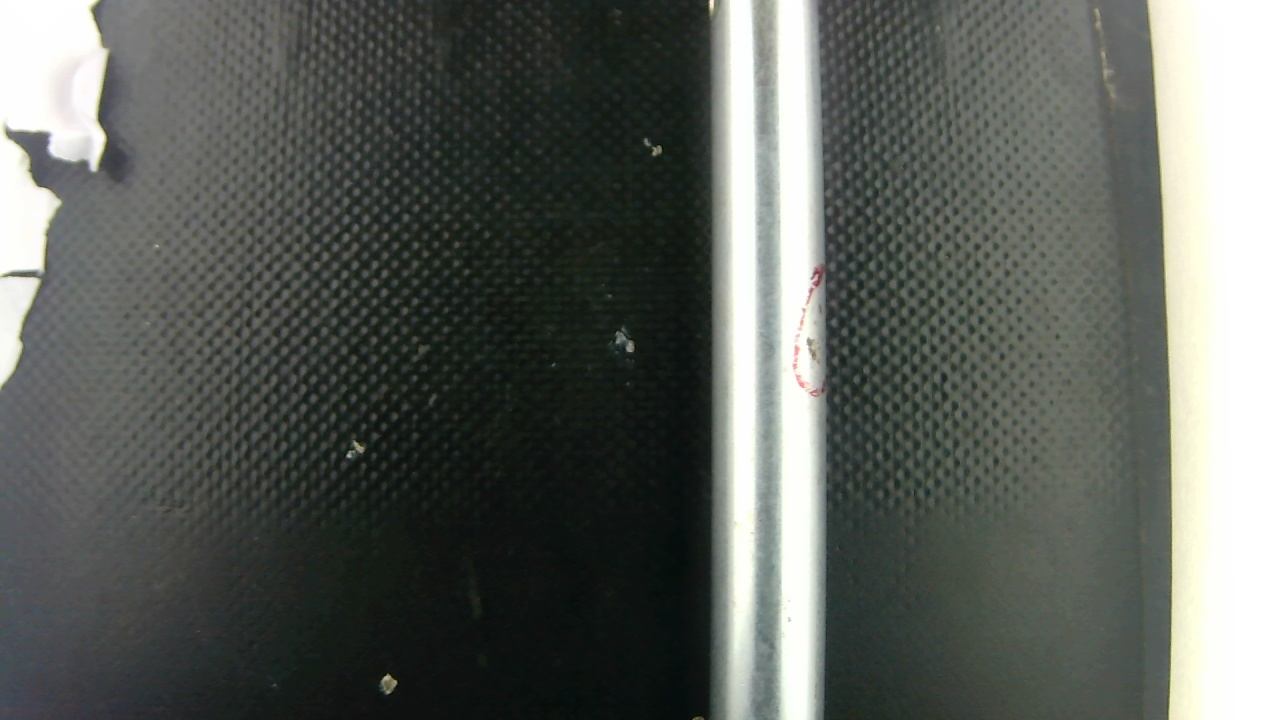rust_pin: (802, 293, 829, 374)
